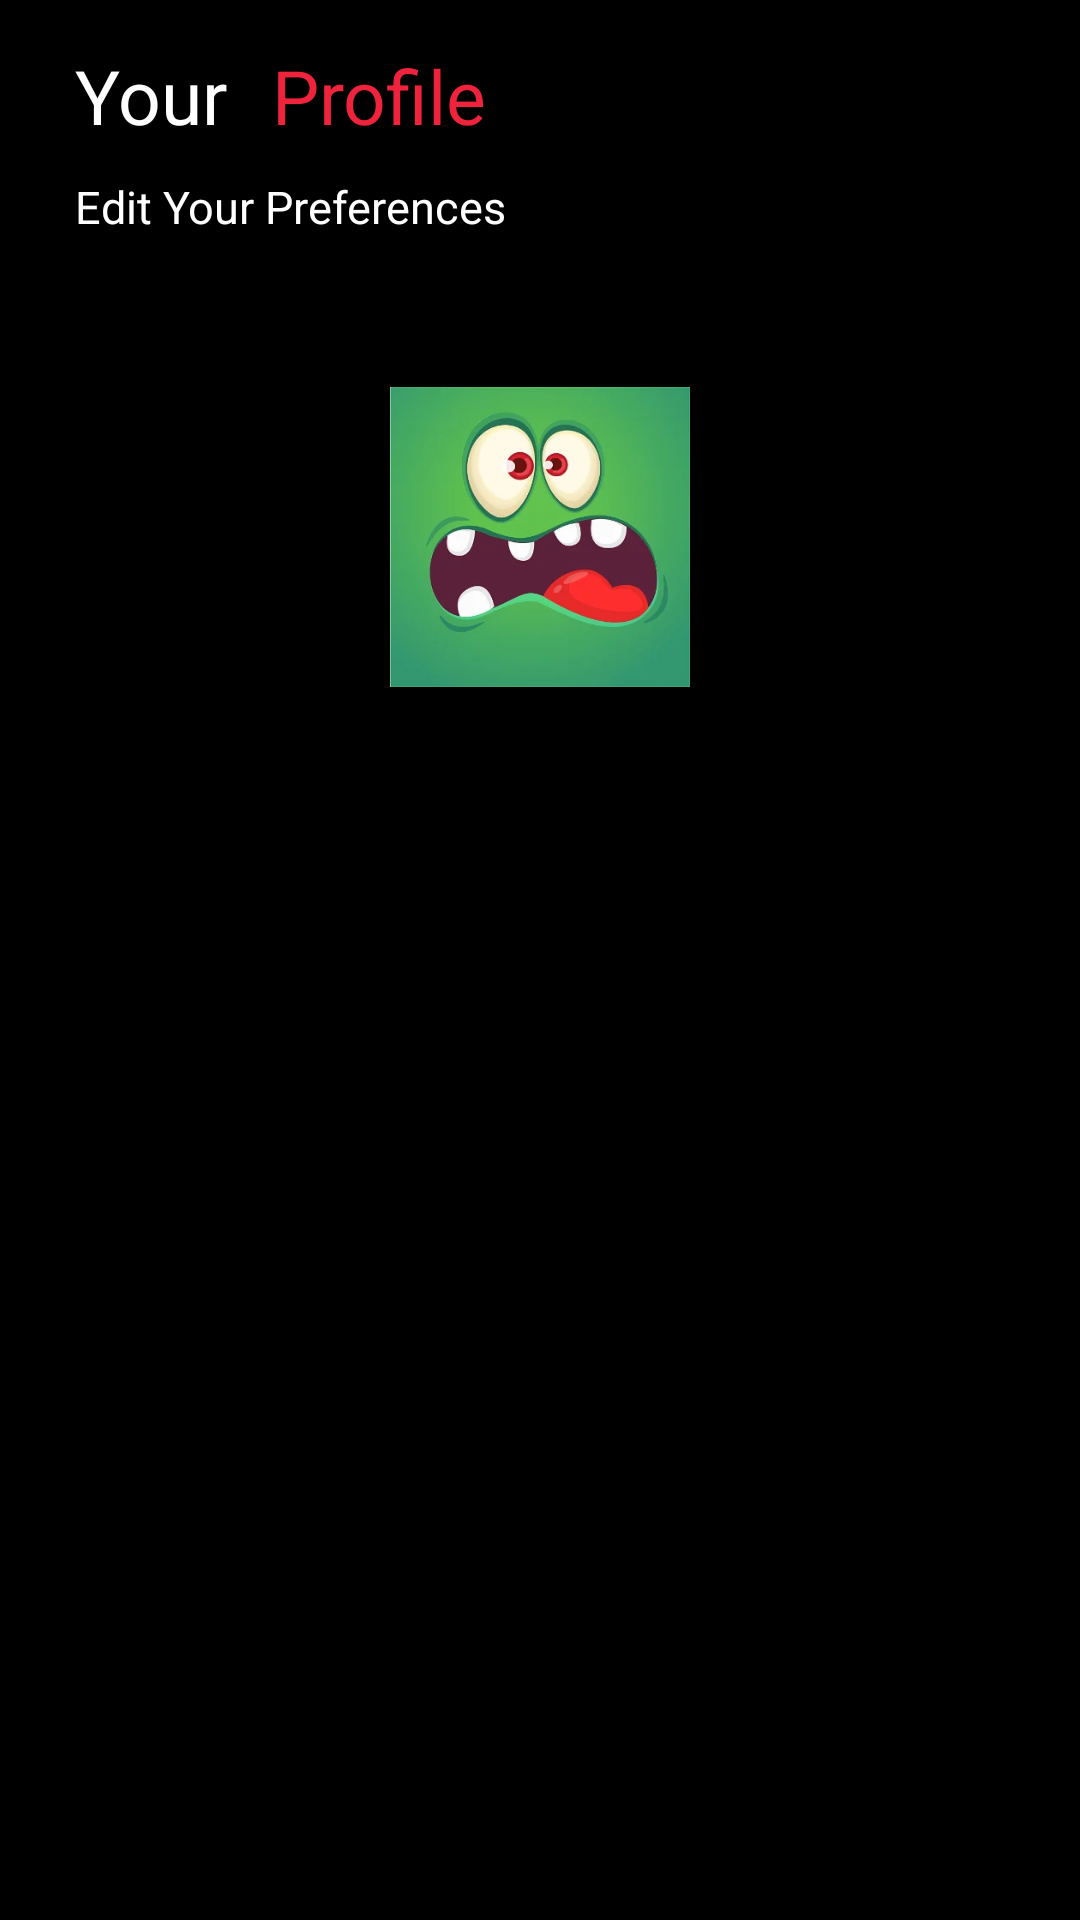

Icon click points for this 1080×1920 phone screenshot, format (x=x, y=y):
avtar: (x=540, y=537)
